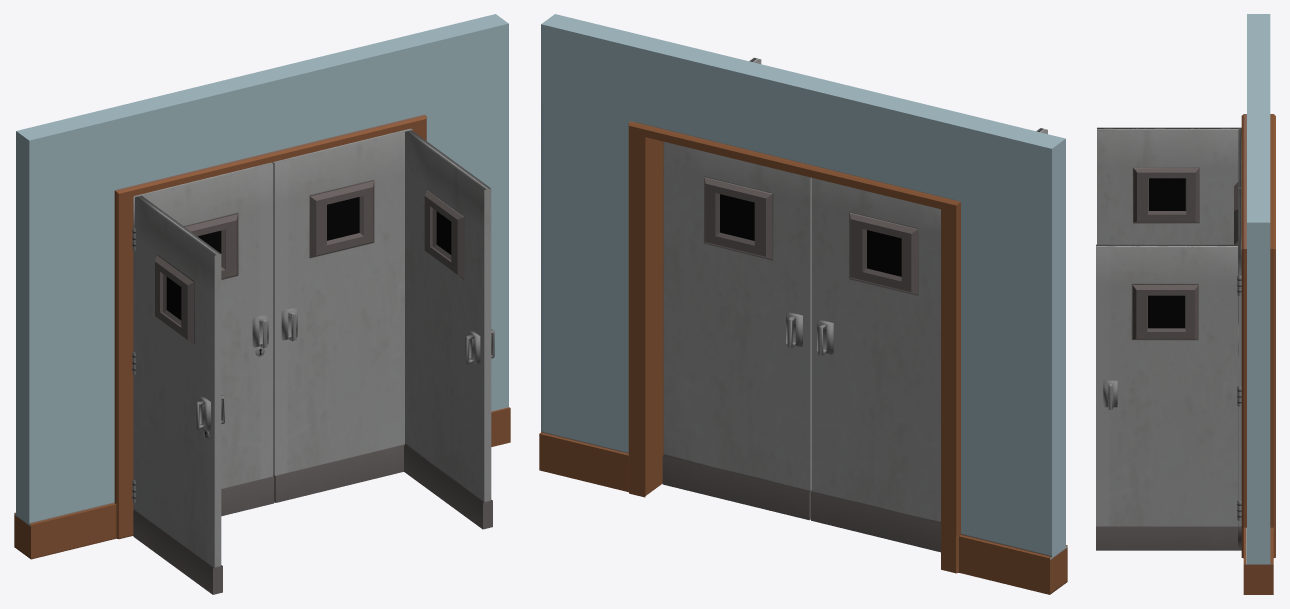
Rendered from Klapdeuren.fbx.
3 renders of one model, left to right at view 1: azimuth 30°, elevation 25°; view 2: azimuth 150°, elevation 25°; view 3: azimuth 270°, elevation 25°, orthographic. The views are drawn at different scales.
Visible parts, largest first — view 1: wall_tile_klapdeur, Door2 (×3), Door1 (×3), Window5; view 2: wall_tile_klapdeur, Door2, Door1, Window5, Window6, Window4; view 3: Door2 (×3), wall_tile_klapdeur, Door1 (×3), Window2, Window1, scharnieren.
Part boxes in pixels (left/top/right/bottom): wall_tile_klapdeur: left=14, top=14, right=510, bottom=559; Door2 (×3): left=273, top=128, right=494, bottom=529; Door1 (×3): left=133, top=162, right=274, bottom=594; Window5: left=327, top=197, right=359, bottom=240; wall_tile_klapdeur: left=539, top=14, right=1067, bottom=594; Door2: left=662, top=142, right=811, bottom=520; Door1: left=811, top=178, right=940, bottom=552; Window5: left=720, top=194, right=754, bottom=240; Window6: left=867, top=230, right=901, bottom=276; Window4: left=867, top=230, right=901, bottom=276; Door2 (×3): left=1096, top=188, right=1241, bottom=550; wall_tile_klapdeur: left=1241, top=14, right=1275, bottom=594; Door1 (×3): left=1097, top=127, right=1241, bottom=466; Window2: left=1148, top=295, right=1184, bottom=328; Window1: left=1149, top=178, right=1185, bottom=210; scharnieren: left=1237, top=275, right=1241, bottom=520.
Bounding box in the file's own units: 17.57 × 14.62 × 6.4.
